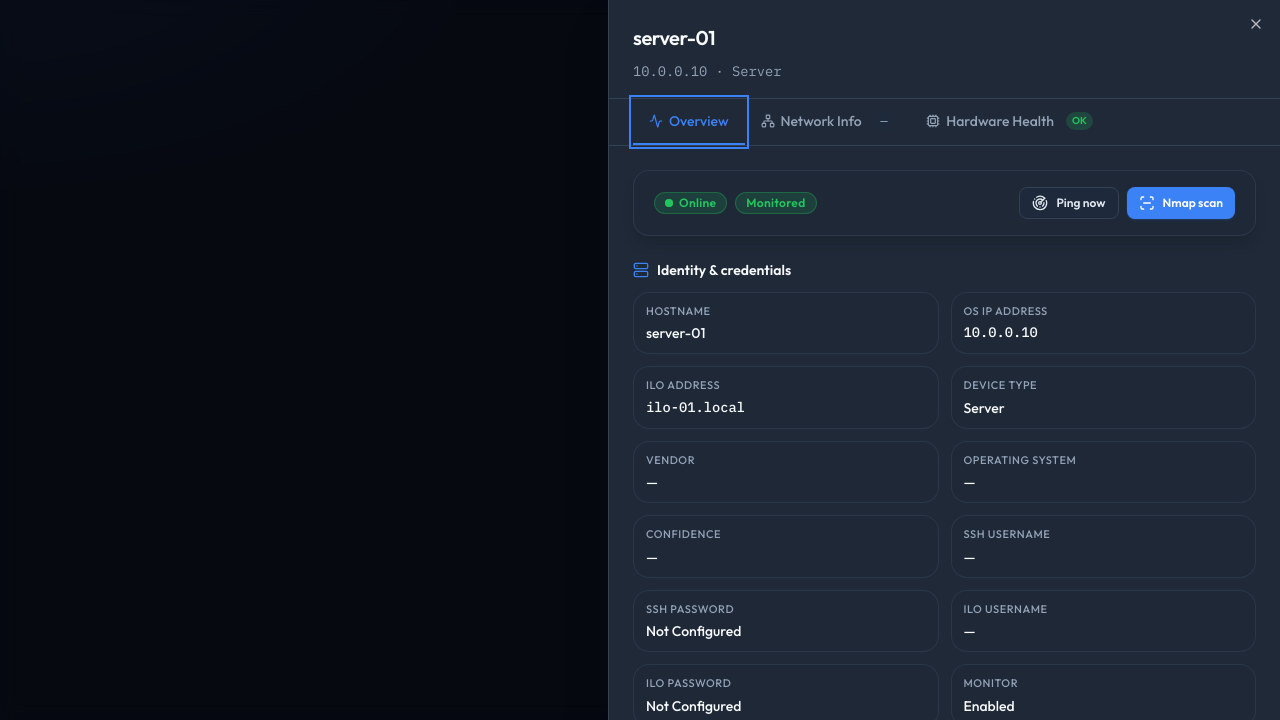
Test: DeviceDrawer - HPE iLO Hardware & Freshness UI › 3. Failing state: renders Collection Failing badge, error alert banner and sanitized error
This screenshot has width=1280, height=720.
Step 1. Click the button "Hardware Health OK" → (1010, 122), box [910,99,1109,145]
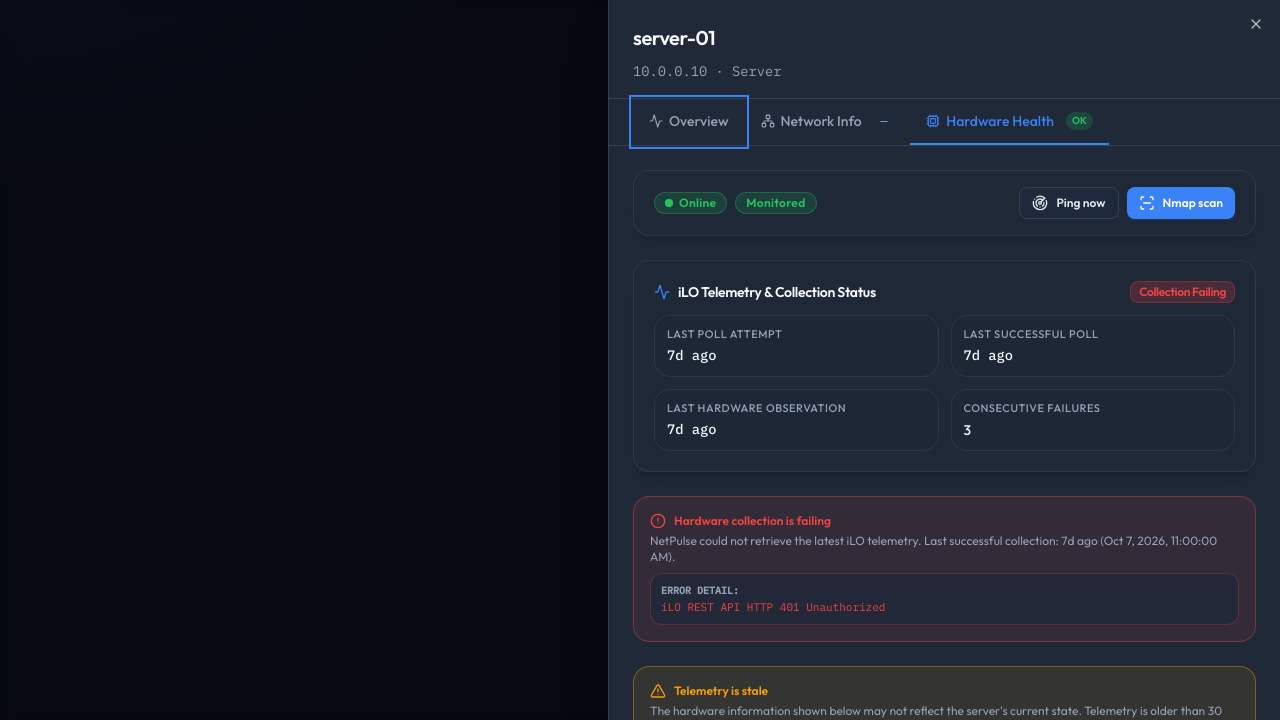
Now the text "Collection Failing" is shown, box [1130,281,1235,303]
Now the text "Hardware collection is failing" is shown, box [674,513,831,529]
Now the text "Error Detail: iLO REST API HTTP 401 Unauthorized" is shown, box [650,573,1239,625]
